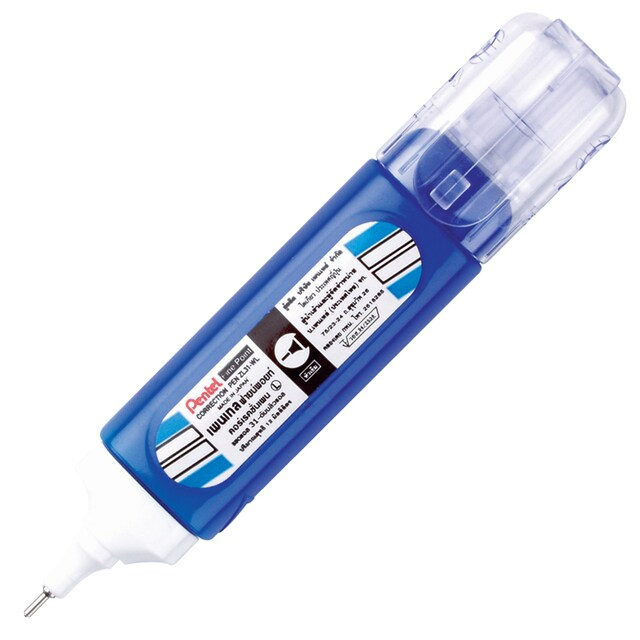Correction_fluid: (11, 5, 632, 627)
